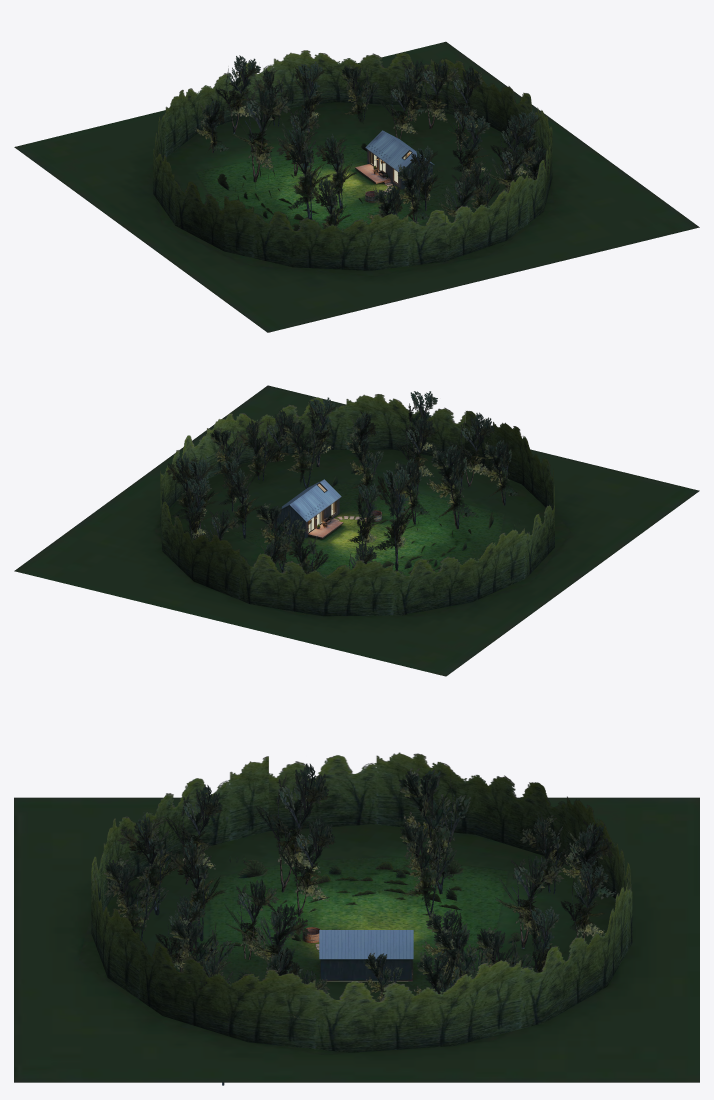
Rendered from exterior.glb.
The picture shows the model from 3 angles, top to bottom: view 1: azimuth 30°, elevation 25°; view 2: azimuth 150°, elevation 25°; view 3: azimuth 270°, elevation 25°; orthographic projection. The views are drawn at different scales.
Visible parts, largest first — view 1: ground.001, background, tree_1.024, tree_1.023, tree_1.012, tree_1.019, tree_1.014, roof, tree_1.005, tree_1.009, tree_1.006, tree_1.001 (+16 smaller); view 2: ground.001, background, tree_1.024, tree_1.023, tree_1.014, tree_1.016, roof, tree_1.005, tree_1.020, tree_1.004, tree_1, tree_1.012 (+14 smaller); view 3: ground.001, background, tree_1.024, tree_1.023, roof, tree_1, tree_1.015, tree_1.016, tree_1.006, tree_1.005, tree_1.012, tree_1.014 (+15 smaller).
Boxes of the visible parts, x1,y1,x2,y2 form: ground.001: (14,41,699,332); background: (153,50,552,270); tree_1.024: (232,86,290,182); tree_1.023: (276,124,332,219); tree_1.012: (215,55,260,133); tree_1.019: (411,60,460,128); tree_1.014: (451,115,491,187); roof: (365,130,434,172); tree_1.005: (287,61,329,138); tree_1.009: (341,64,379,123); tree_1.006: (315,133,358,211); tree_1.001: (378,76,420,139); ground.001: (14,385,699,676); background: (160,394,554,616); tree_1.024: (373,466,420,570); tree_1.023: (427,442,477,529); tree_1.014: (280,418,329,488); tree_1.016: (447,412,494,486); roof: (281,479,341,522); tree_1.005: (256,503,303,572); tree_1.020: (480,438,519,505); tree_1.004: (235,418,279,482); tree_1: (348,483,384,551); tree_1.012: (278,526,328,574); ground.001: (14,797,699,1082); background: (91,752,632,1052); tree_1.024: (398,768,471,894); tree_1.023: (255,763,329,892); roof: (319,930,413,959); tree_1: (399,822,456,917); tree_1.015: (103,858,168,940); tree_1.016: (117,812,185,915); tree_1.006: (278,816,335,916); tree_1.005: (495,855,564,948); tree_1.012: (559,820,618,913); tree_1.014: (248,902,309,973).
Bounding box in the file's own units: 72.43 × 22.83 × 73.68.
Materials: 29 (25 with a texture image).
